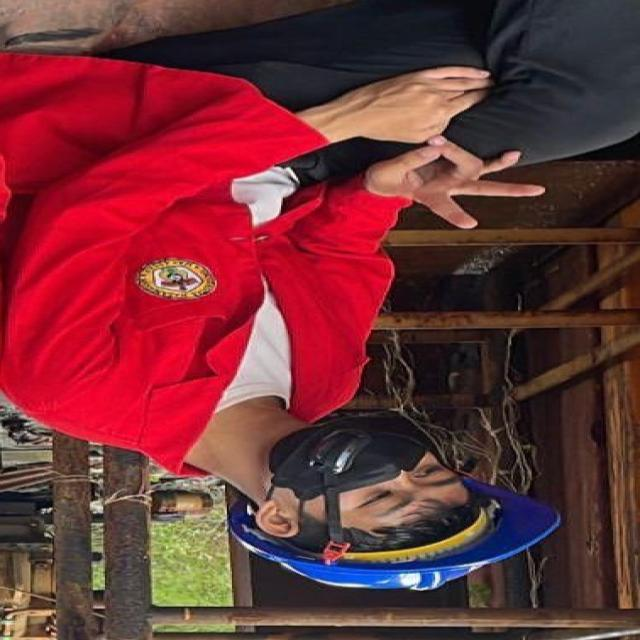safetyhelmet: (220, 452, 575, 594)
